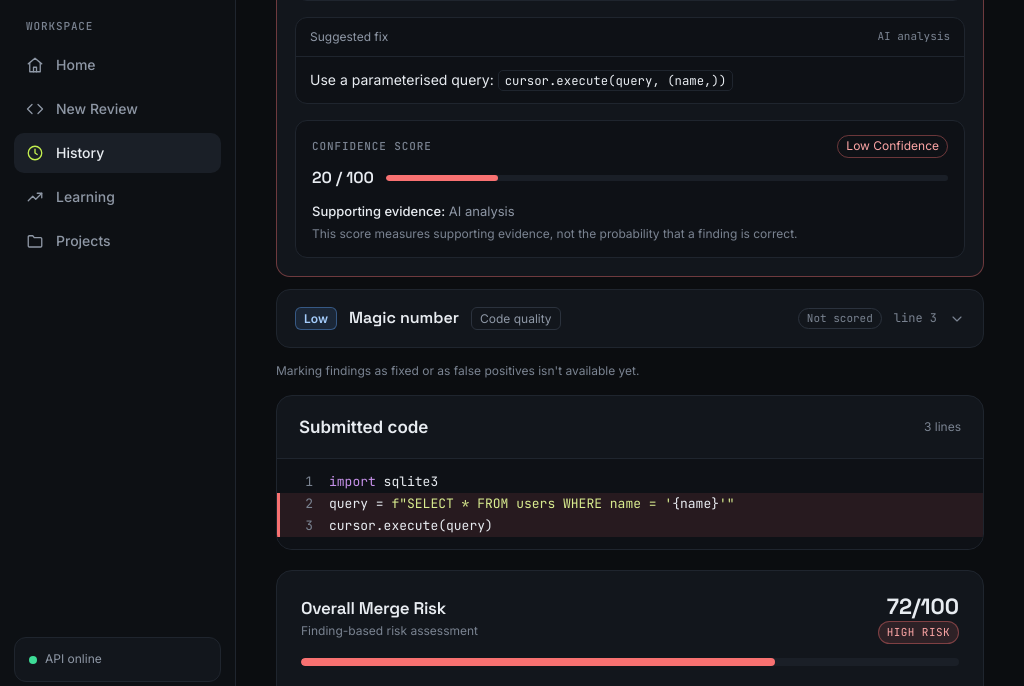
Test: Review results › shows Stage 7 confidence on collapsed cards and in the details
(page scrolled)
Expected: the text "Not scored" is shown, left=798, top=308, right=882, bottom=329
Expected: the text "20 / 100" is shown, left=312, top=166, right=374, bottom=190
Click the button "Low Magic number Code quality Not scored line 3": (316,319) left=277, top=290, right=983, bottom=347
(page scrolled)
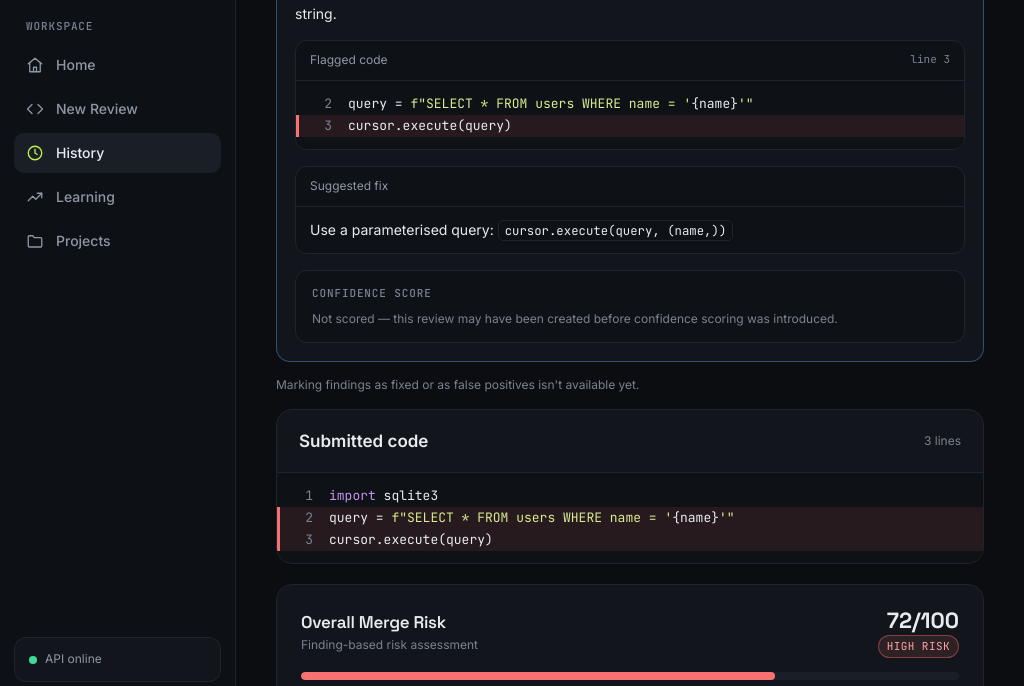
Now the text "Not scored — this review may have been created before confidence scoring" is shown, box left=312, top=311, right=838, bottom=326
